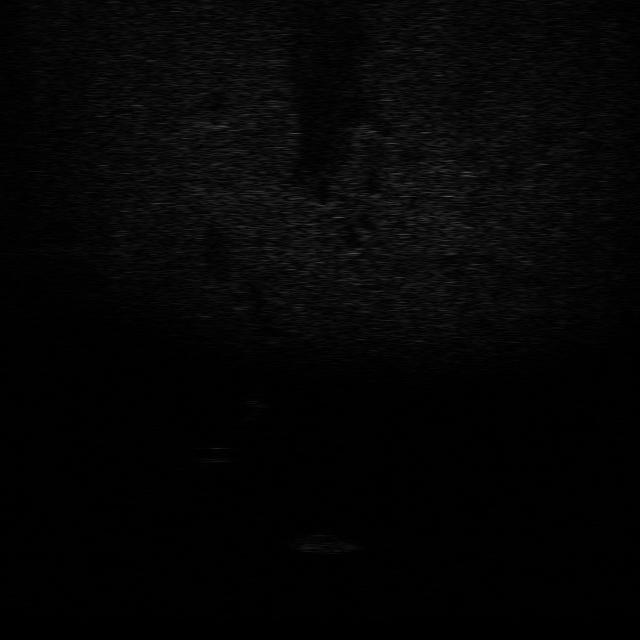ball: (189, 439, 239, 465)
circle cage: (284, 527, 361, 557)
human body: (238, 377, 272, 425)
